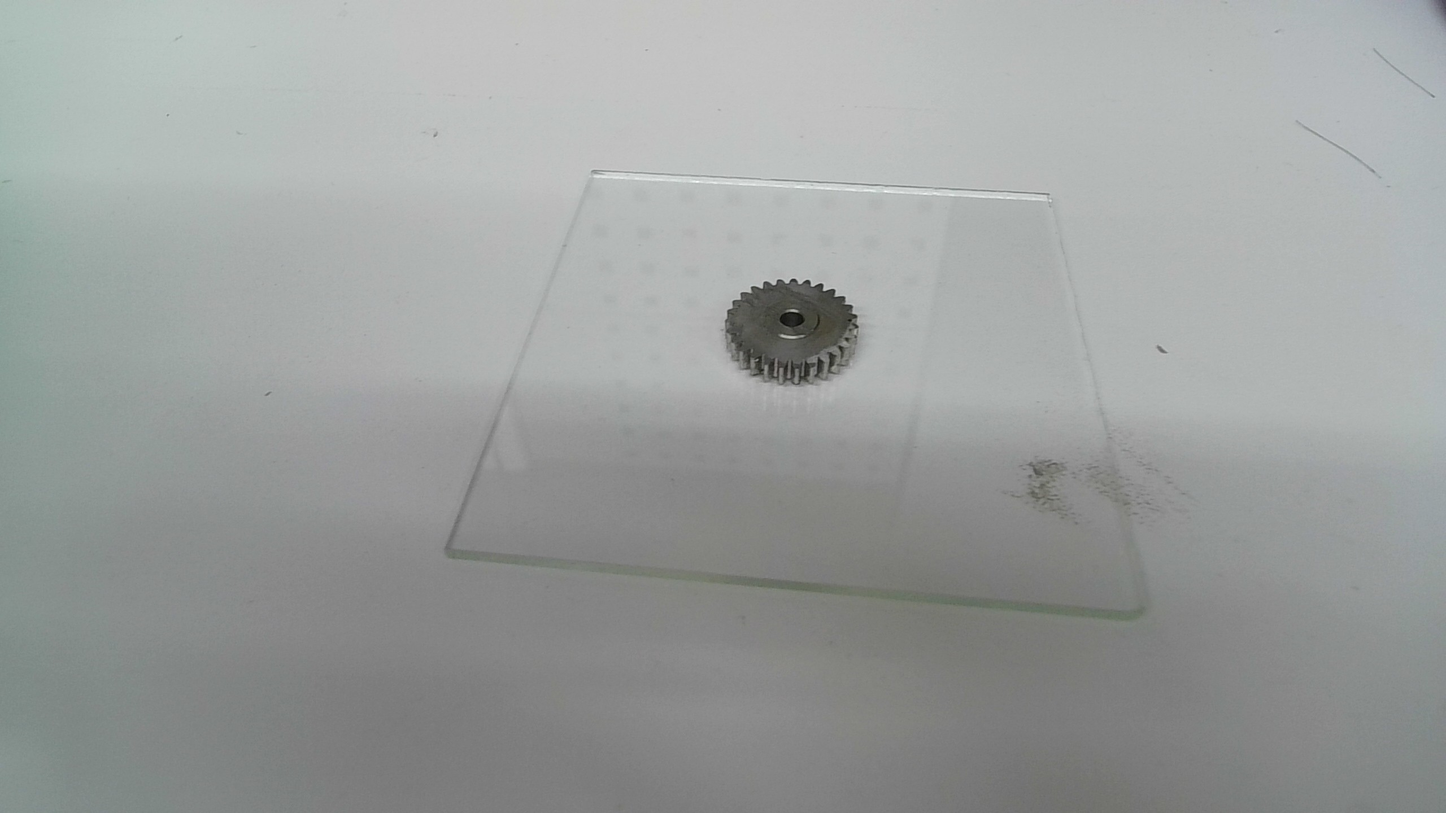gear: (721, 276, 862, 385)
